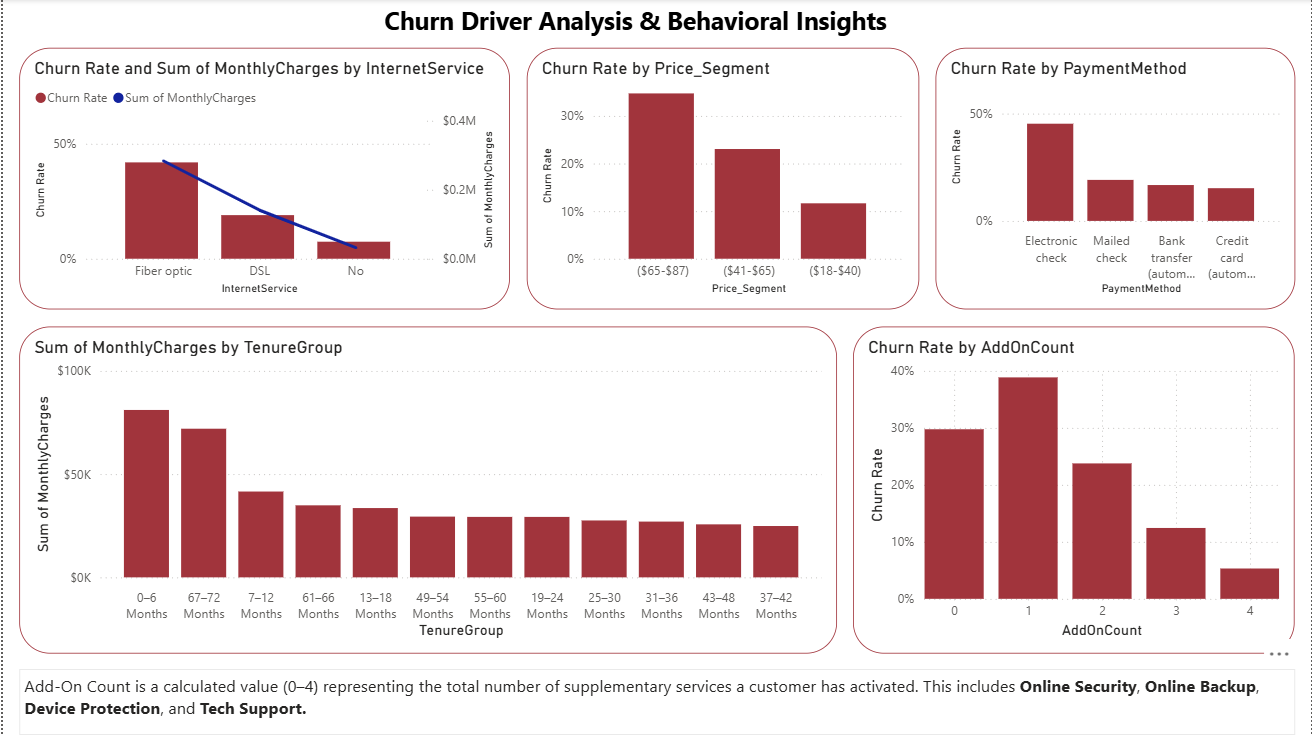

This screenshot's page, from the dashboard's own definition file:
{"tool":"powerbi","page":{"name":"Page 2","canvas":[1280,720],"ordinal":1},"visuals":[{"type":"clusteredColumnChart","fields":{"Category":["claeaned_telco_customer_churn.TenureGroup"],"Y":["Sum(claeaned_telco_customer_churn.MonthlyCharges)"]},"box":[16,320,800,320],"z":0},{"type":"lineClusteredColumnComboChart","fields":{"Category":["claeaned_telco_customer_churn.InternetService"],"Y":["claeaned_telco_customer_churn.Churn Rate"],"Y2":["Sum(claeaned_telco_customer_churn.MonthlyCharges)"]},"box":[16,48,480,256],"z":1000},{"type":"clusteredColumnChart","fields":{"Y":["claeaned_telco_customer_churn.Churn Rate"],"Category":["claeaned_telco_customer_churn.Price_Segment"]},"box":[512,48,384,256],"z":2000},{"type":"clusteredColumnChart","fields":{"Y":["claeaned_telco_customer_churn.Churn Rate"],"Category":["claeaned_telco_customer_churn.AddOnCount"]},"box":[832,320,432,320],"z":3000},{"type":"clusteredColumnChart","fields":{"Category":["claeaned_telco_customer_churn.PaymentMethod"],"Y":["claeaned_telco_customer_churn.Churn Rate"]},"box":[912,48,352,256],"z":4000},{"type":"textbox","box":[16,656,1248,64],"z":5000},{"type":"textbox","box":[368,0,624,48],"z":6000}]}

Visuals, with their boxes in screenshot pixels (x1, y1, x2, y2), scaled from the page's 1280x720 canvas onto the 1312x735 screenshot:
clusteredColumnChart - claeaned_telco_customer_churn.TenureGroup x Sum(claeaned_telco_customer_churn.MonthlyCharges): bbox=(16, 327, 836, 653)
lineClusteredColumnComboChart - claeaned_telco_customer_churn.InternetService x claeaned_telco_customer_churn.Churn Rate: bbox=(16, 49, 508, 310)
clusteredColumnChart - claeaned_telco_customer_churn.Churn Rate x claeaned_telco_customer_churn.Price_Segment: bbox=(525, 49, 918, 310)
clusteredColumnChart - claeaned_telco_customer_churn.Churn Rate x claeaned_telco_customer_churn.AddOnCount: bbox=(853, 327, 1296, 653)
clusteredColumnChart - claeaned_telco_customer_churn.PaymentMethod x claeaned_telco_customer_churn.Churn Rate: bbox=(935, 49, 1296, 310)
textbox: bbox=(16, 670, 1296, 734)
textbox: bbox=(377, 0, 1017, 49)
